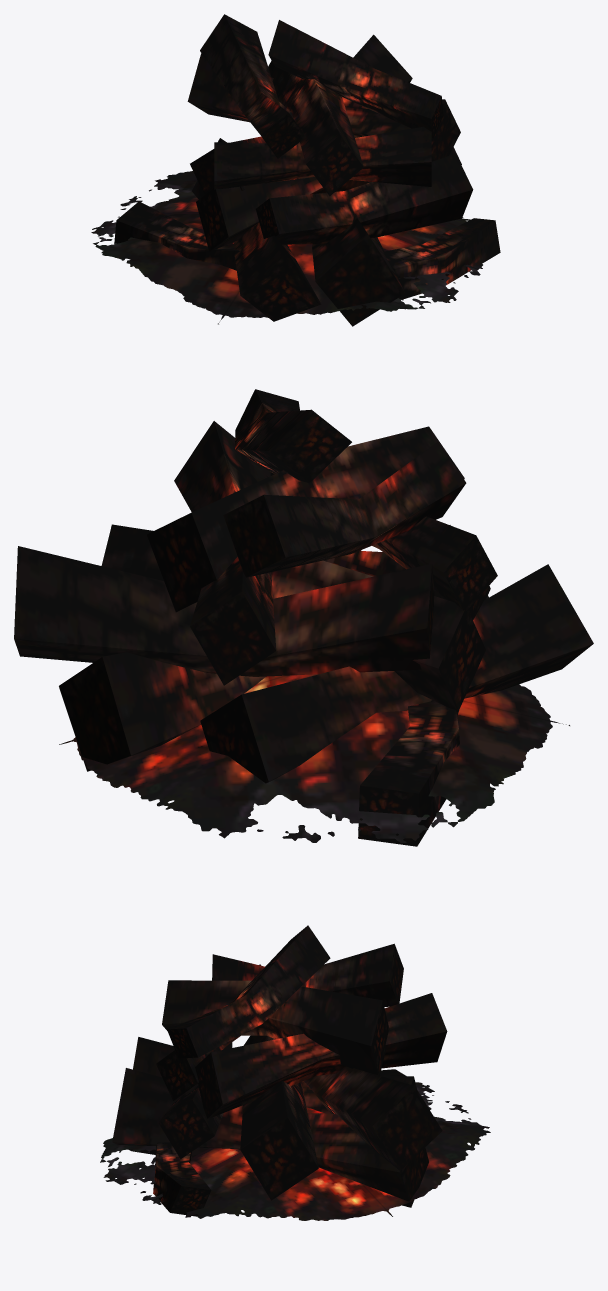
The model's file is cave_bonfire_02.fbx.
3 views of the same model, one above another, from view 1: azimuth 30°, elevation 25°; view 2: azimuth 150°, elevation 25°; view 3: azimuth 270°, elevation 25° (orthographic). The views are drawn at different scales.
Parts seen in each view (by area): view 1: cave_bonfire_mat; view 2: cave_bonfire_mat; view 3: cave_bonfire_mat.
Boxes of the visible parts, x1=… form: cave_bonfire_mat: x1=91, y1=14, x2=500, y2=326; cave_bonfire_mat: x1=14, y1=389, x2=593, y2=846; cave_bonfire_mat: x1=100, y1=925, x2=490, y2=1220.
Size of the model in its own units: 4.71 by 2.24 by 4.98.
